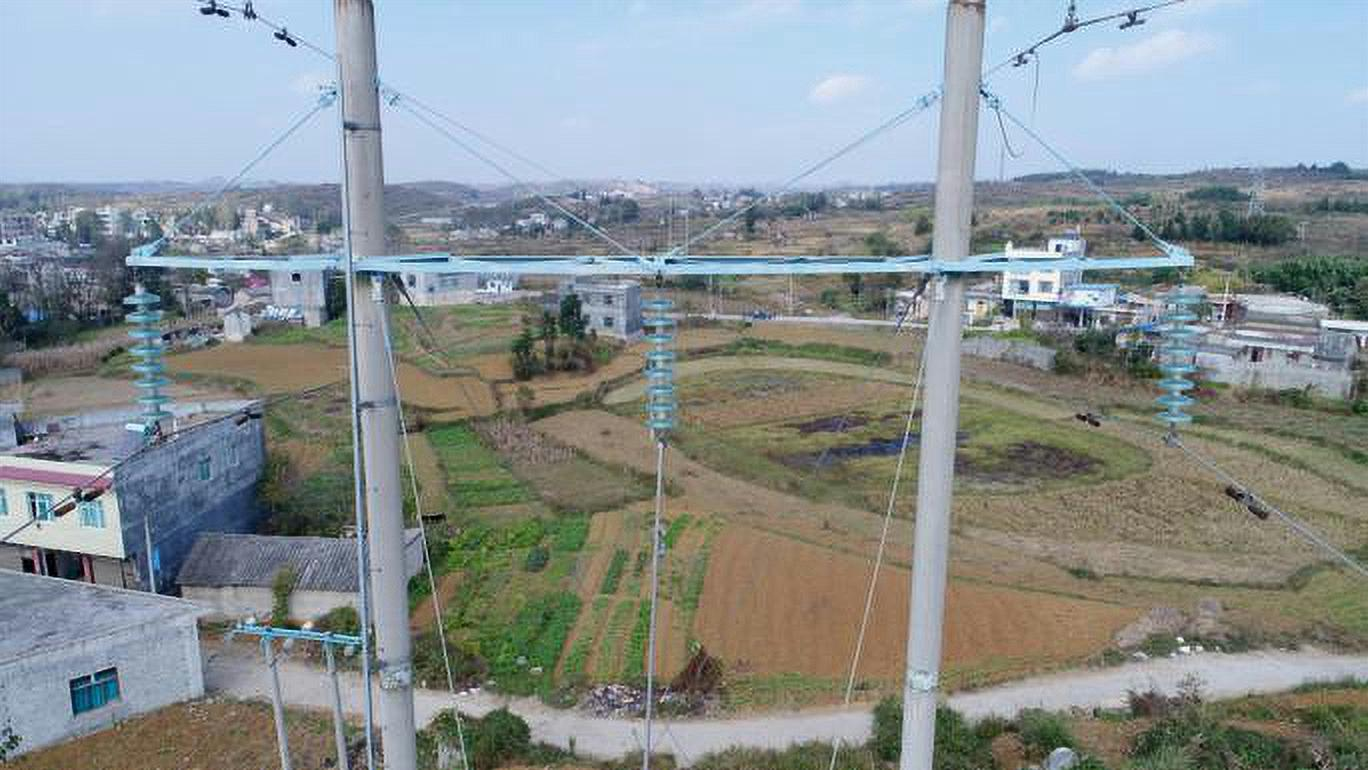insulator: (121, 291, 179, 424), (1150, 289, 1202, 427), (636, 294, 684, 434)
